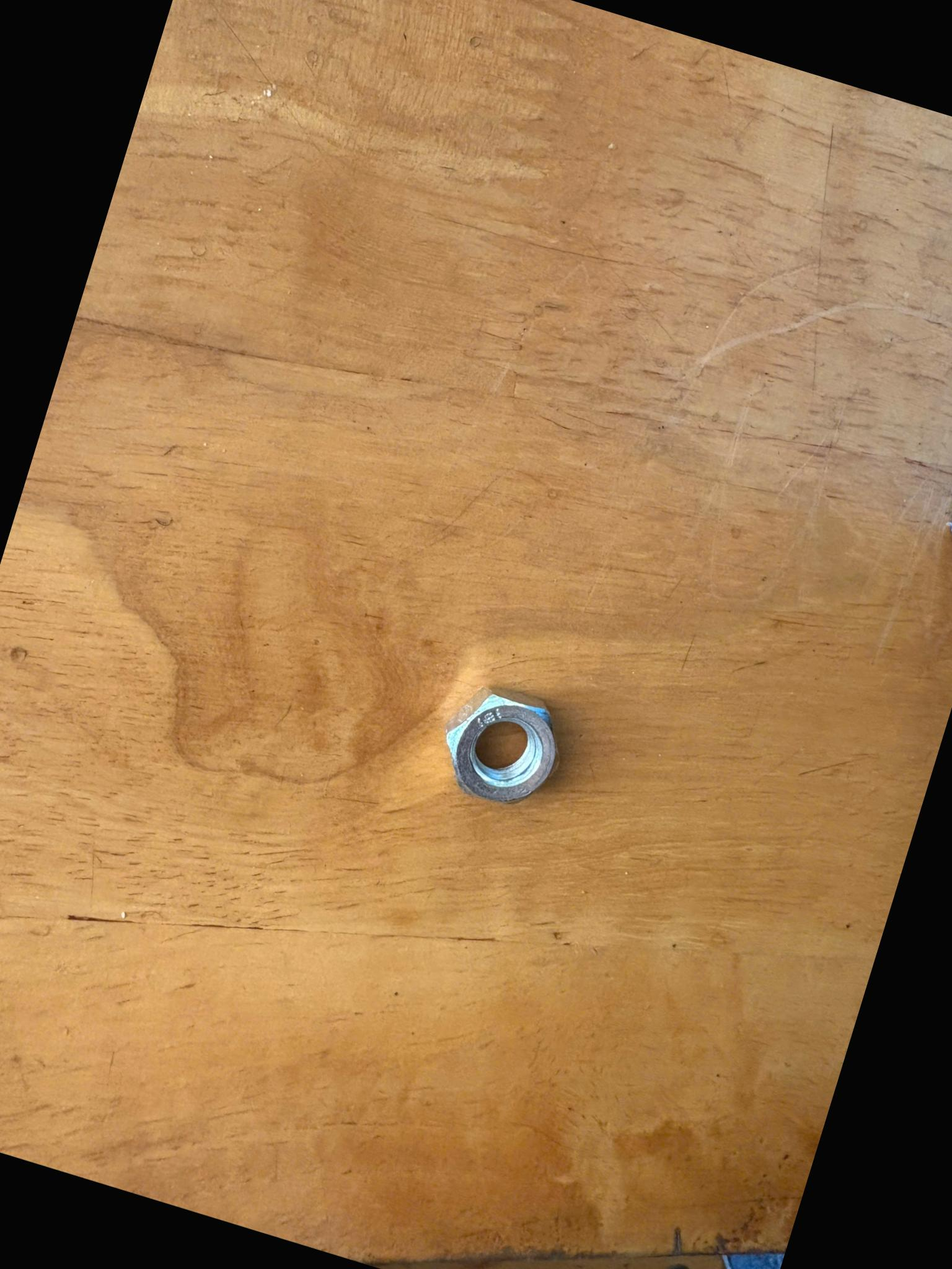nut: (424, 672, 569, 830)
